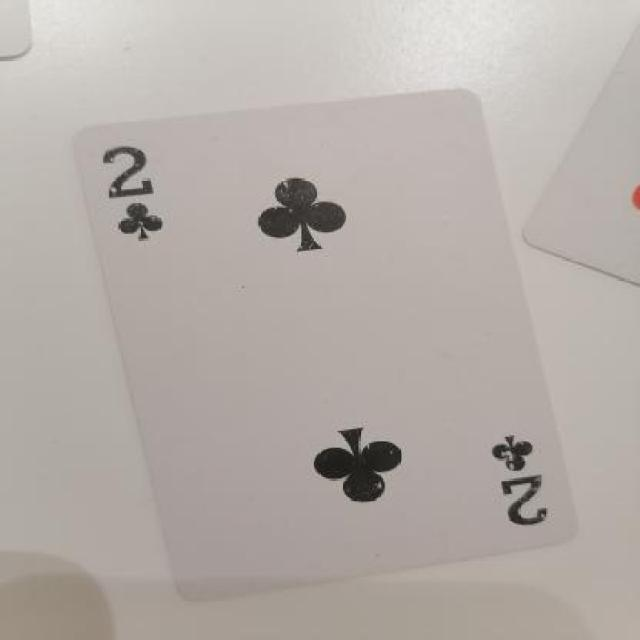2C: (81, 146, 196, 252), (470, 437, 579, 538)
